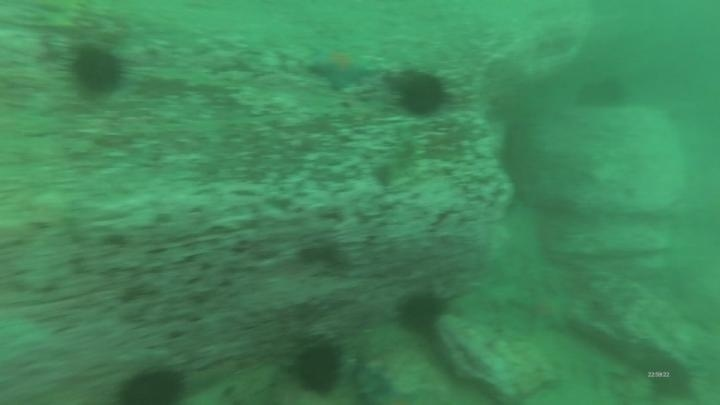echinus: (63, 40, 130, 100), (288, 337, 347, 399), (114, 363, 190, 404), (393, 68, 452, 120), (639, 351, 698, 403), (393, 286, 448, 336), (573, 72, 631, 114)
holothurian: (370, 125, 426, 190)
starfish: (305, 43, 376, 93), (511, 283, 577, 336)
